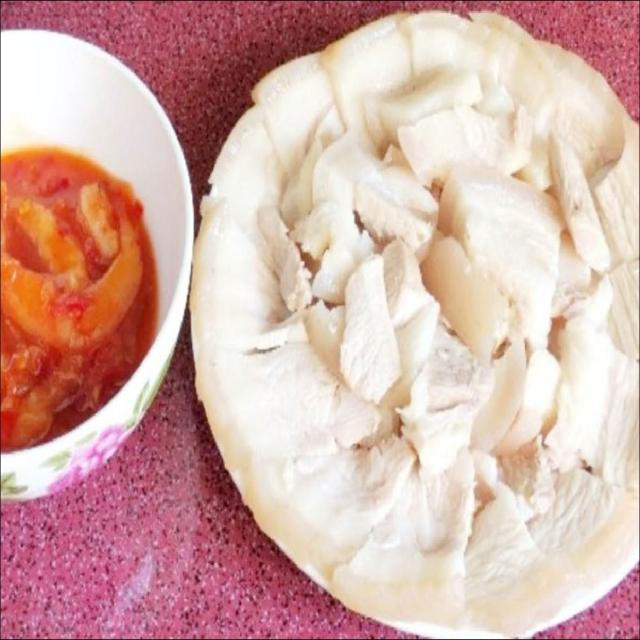thit luoc: (190, 11, 638, 636)
tom: (2, 211, 143, 354)
